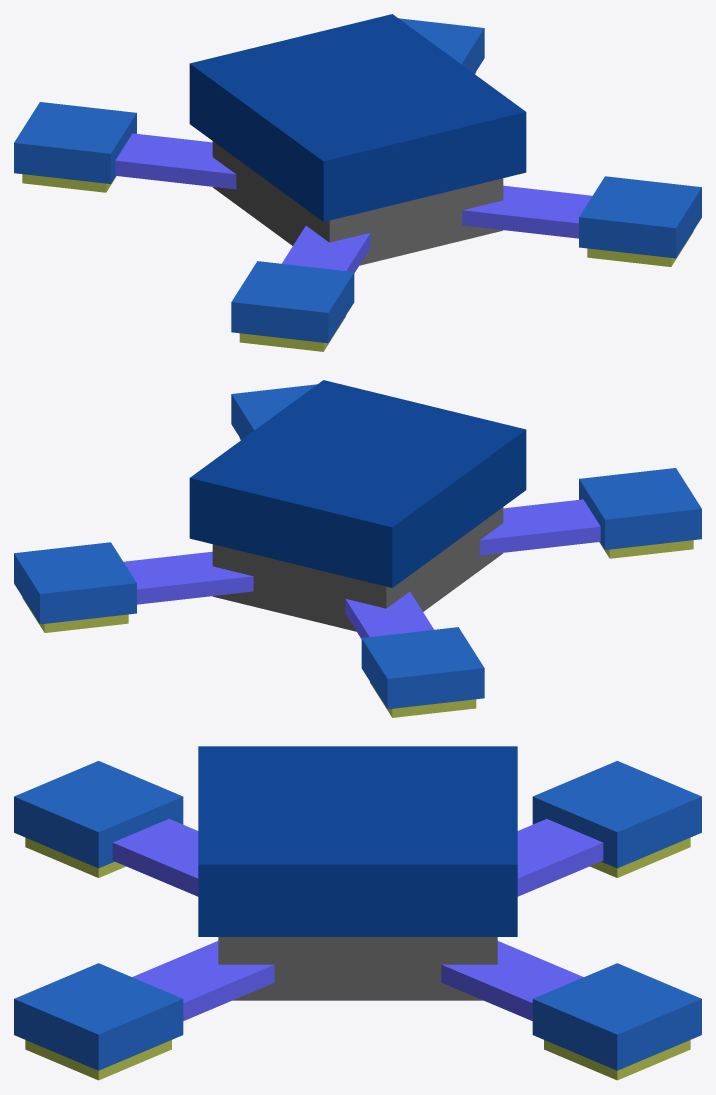
File: Scavenge.FBX
The picture shows the model from 3 angles, top to bottom: view 1: azimuth 30°, elevation 25°; view 2: azimuth 150°, elevation 25°; view 3: azimuth 270°, elevation 25°; orthographic projection. The views are drawn at different scales.
Visible parts, largest first — view 1: MultiMesher001; view 2: MultiMesher001; view 3: MultiMesher001.
Boxes of the visible parts, <box> form: MultiMesher001: <box>14,14,701,351</box>; MultiMesher001: <box>14,380,701,717</box>; MultiMesher001: <box>14,746,701,1080</box>.
Size of the model in its own units: 81.21 by 20 by 86.21.
